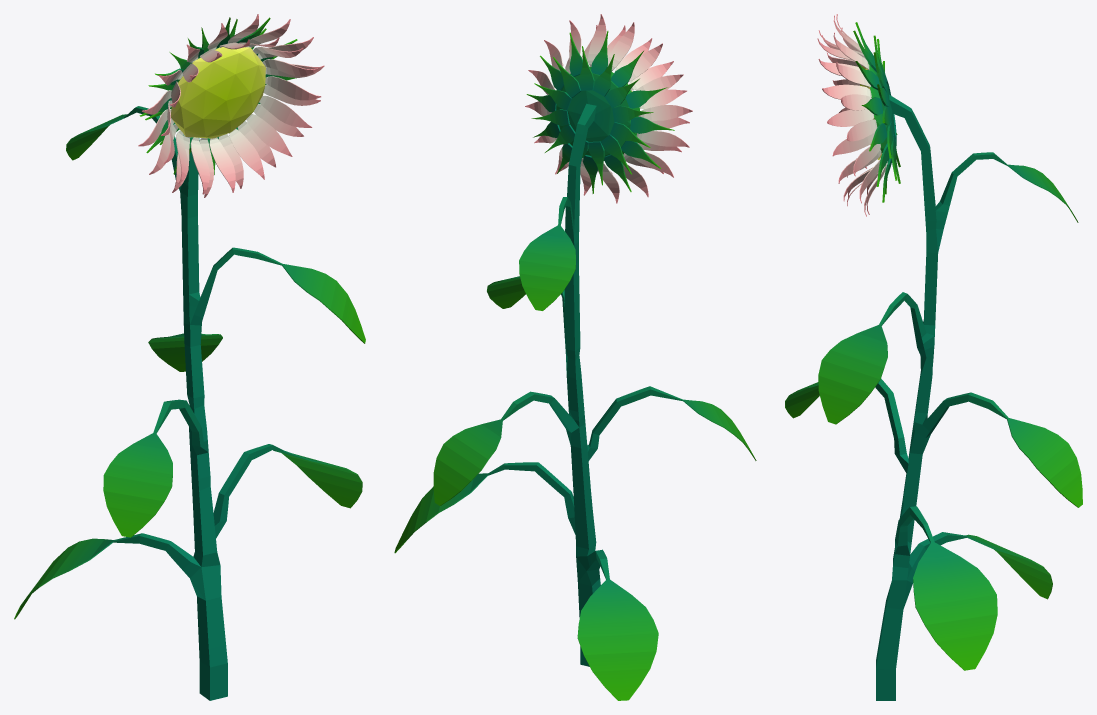
Rendered from SunflowerGameReady.fbx.
The picture shows the model from 3 angles, left to right: view 1: azimuth 30°, elevation 25°; view 2: azimuth 150°, elevation 25°; view 3: azimuth 270°, elevation 25°; orthographic projection. The views are drawn at different scales.
Visible parts, largest first — view 1: SunflowerStalk, PetalRow1, Seeds, PetalRow 2, LeafRow1, LeafRow1.001; view 2: SunflowerStalk, PetalRow 2, LeafRow1.001, LeafRow1, PetalRow1, Seeds.001; view 3: SunflowerStalk, PetalRow1, PetalRow 2, LeafRow1, LeafRow1.001, Seeds.001.
Part boxes in pixels (x1,y1,x2,y2): SunflowerStalk: (14, 106, 365, 700); PetalRow1: (160, 37, 321, 194); Seeds: (171, 47, 265, 138); PetalRow 2: (138, 14, 324, 197); LeafRow1: (139, 17, 297, 174); LeafRow1.001: (145, 19, 277, 154); SunflowerStalk: (394, 103, 756, 700); PetalRow 2: (525, 14, 692, 203); LeafRow1.001: (531, 46, 653, 185); LeafRow1: (526, 31, 674, 193); PetalRow1: (554, 25, 689, 174); Seeds.001: (556, 66, 639, 160); SunflowerStalk: (785, 94, 1082, 700); PetalRow1: (817, 30, 881, 206); PetalRow 2: (833, 14, 887, 216); LeafRow1: (853, 22, 891, 202); LeafRow1.001: (873, 35, 900, 183); Seeds.001: (868, 62, 894, 160).
Bounding box in the file's own units: 172 × 360 × 144.
